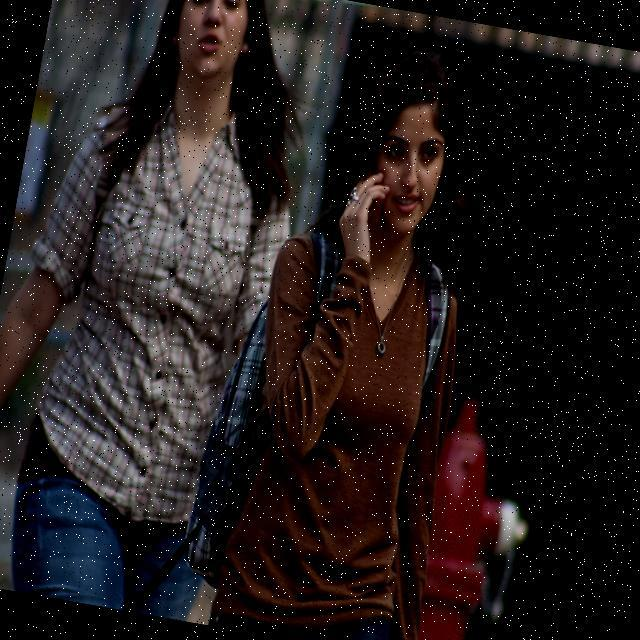fire_hydrant: (407, 390, 551, 640)
